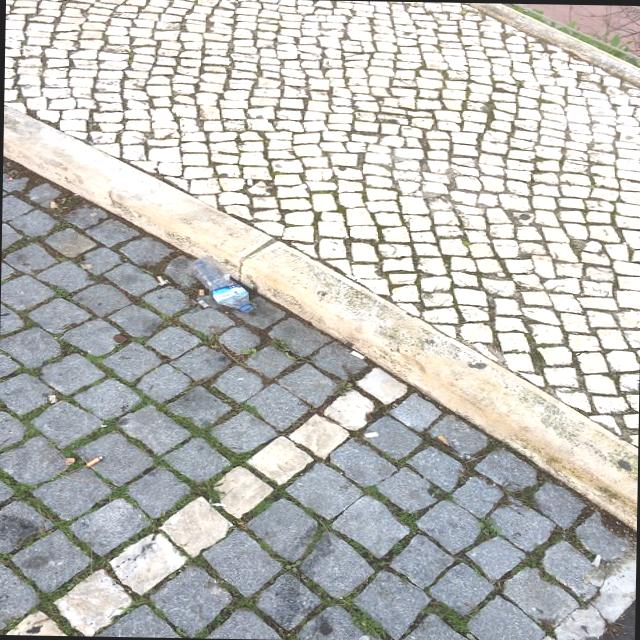Recycle: (188, 254, 254, 314)
